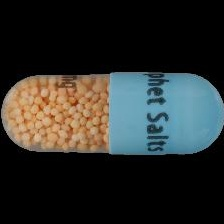0555-0790: (0, 0, 224, 224)
